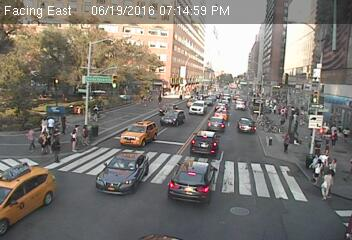neg: (110, 69, 128, 93), (130, 66, 144, 85), (161, 78, 170, 90)
pos: (19, 124, 41, 154), (278, 129, 297, 156)
